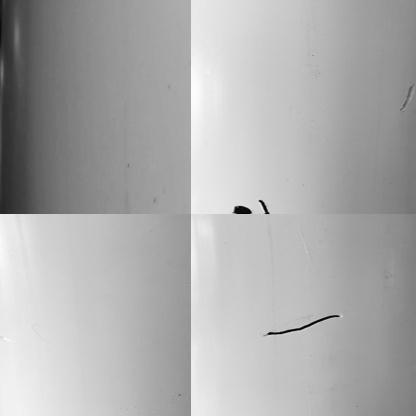fengxi: (259, 313, 343, 334), (256, 194, 275, 215)
kongdong: (230, 203, 252, 217)
sunshang: (394, 77, 415, 115)
